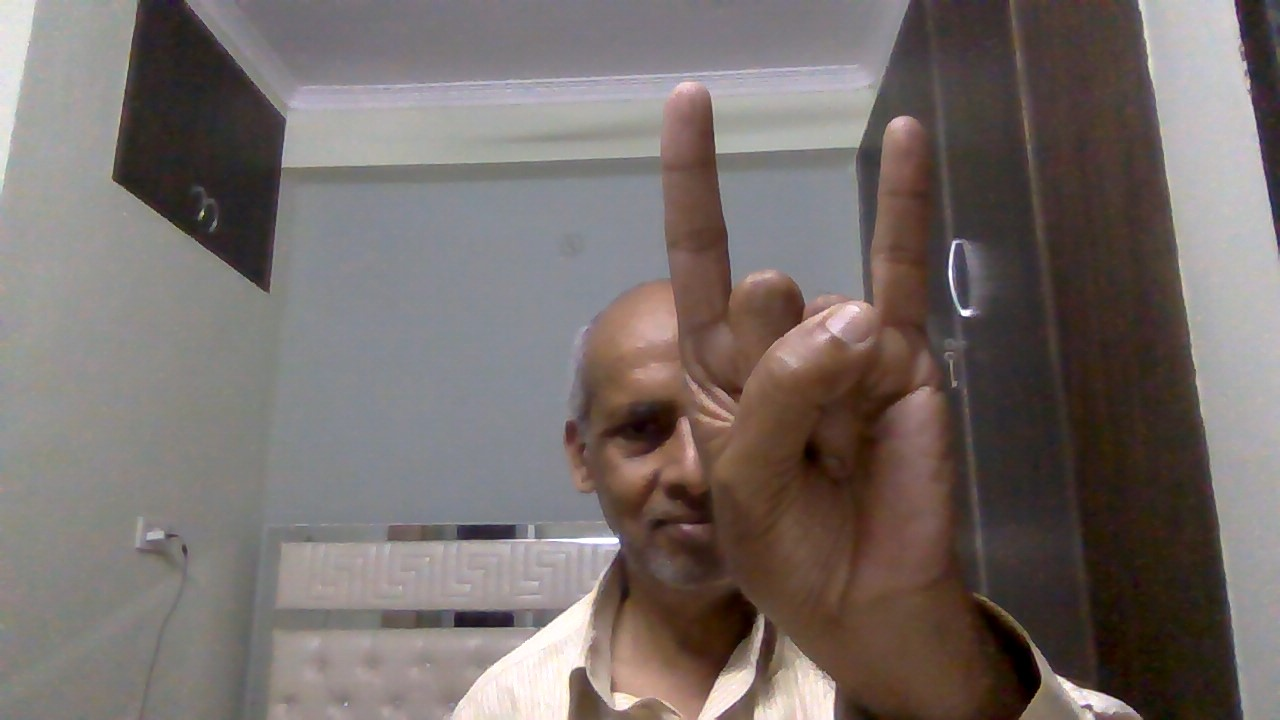Select All: (651, 69, 980, 630)
